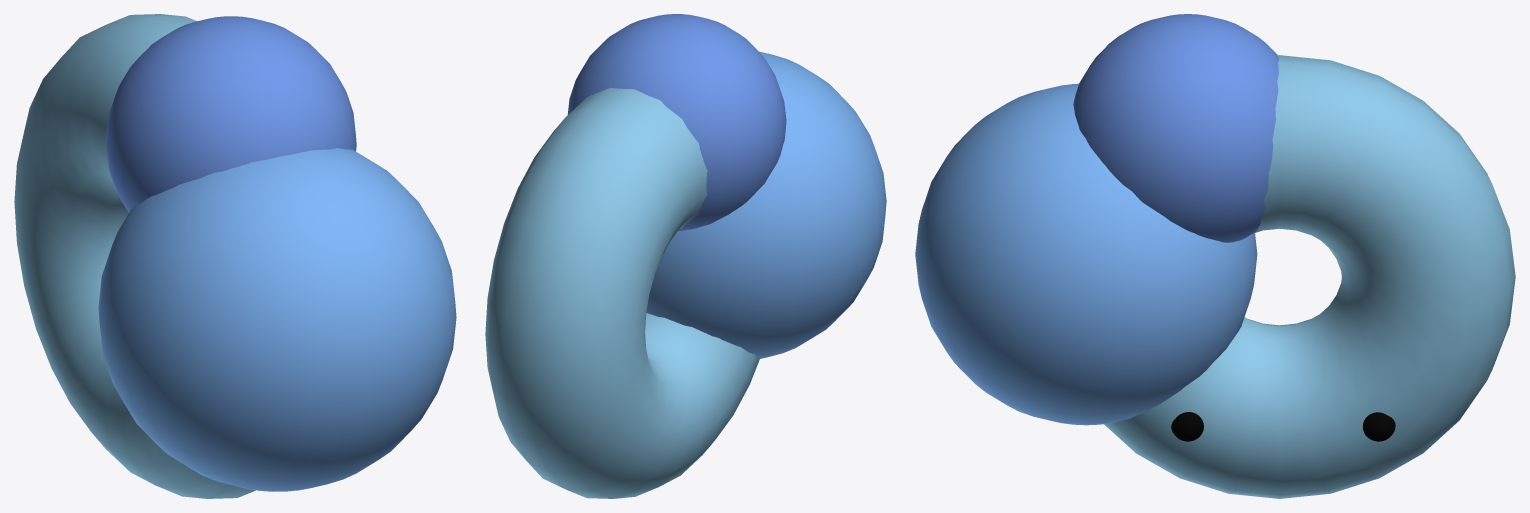
The model's file is blue.gltf.
3 views of the same model, side by side, from view 1: azimuth 30°, elevation 25°; view 2: azimuth 150°, elevation 25°; view 3: azimuth 270°, elevation 25° (orthographic). The views are drawn at different scales.
Visible parts, largest first — view 1: Sphere, Torus, Sphere.001; view 2: Torus, Sphere, Sphere.001; view 3: Torus, Sphere, Sphere.001, Sphere.003, Sphere.002.
Part boxes in pixels (left/top/right/bottom): Sphere: left=98, top=148, right=456, bottom=491; Torus: left=14, top=14, right=255, bottom=498; Sphere.001: left=106, top=16, right=356, bottom=212; Torus: left=485, top=87, right=759, bottom=498; Sphere: left=646, top=51, right=886, bottom=358; Sphere.001: left=567, top=14, right=786, bottom=231; Torus: left=1104, top=55, right=1515, bottom=498; Sphere: left=915, top=83, right=1257, bottom=425; Sphere.001: left=1073, top=14, right=1278, bottom=242; Sphere.003: left=1363, top=412, right=1395, bottom=441; Sphere.002: left=1171, top=412, right=1203, bottom=441.
Bounding box in the file's own units: 2 × 3 × 3.51.
